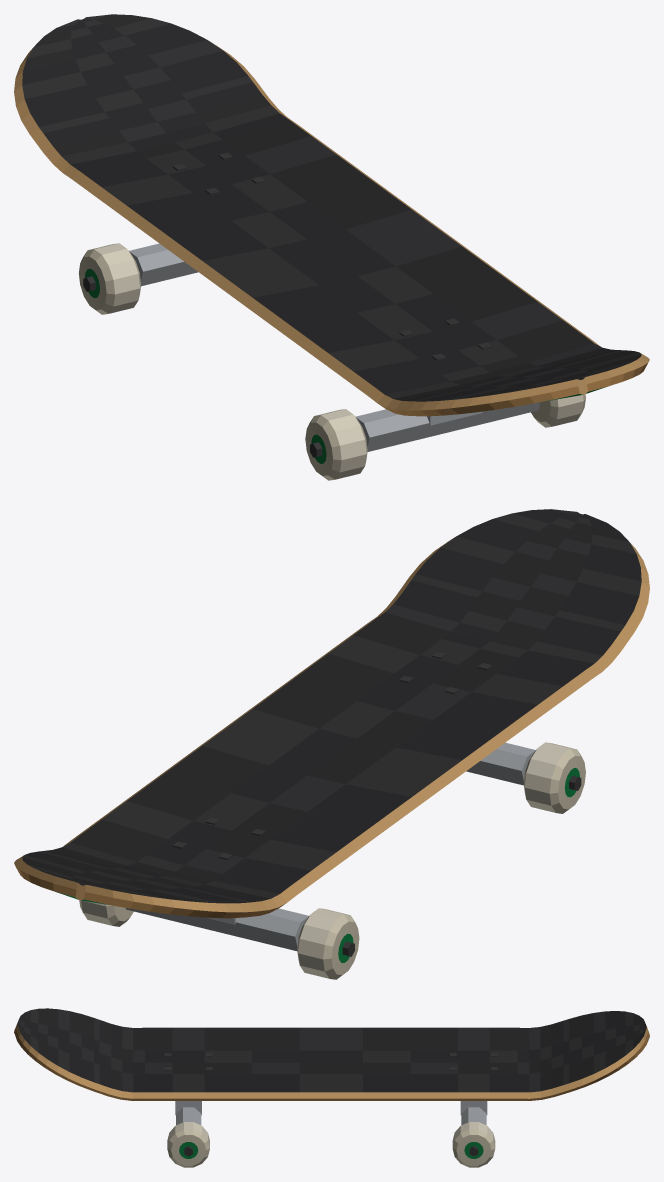
File: skateboard.glb
3 renders of one model, top to bottom at view 1: azimuth 30°, elevation 25°; view 2: azimuth 150°, elevation 25°; view 3: azimuth 270°, elevation 25°, orthographic. The views are drawn at different scales.
Parts seen in each view (by area): view 1: skateboard; view 2: skateboard; view 3: skateboard.
Part boxes in pixels (bbox=[...]): skateboard: bbox=[14, 14, 649, 480]; skateboard: bbox=[14, 509, 649, 979]; skateboard: bbox=[14, 1008, 649, 1167].
Size of the model in its own units: 0.243 by 0.1487 by 0.8025.
